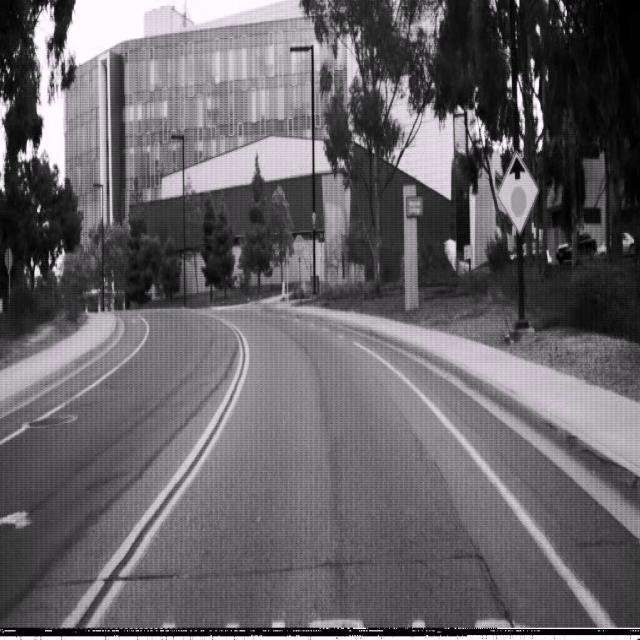stop: (293, 233, 305, 257)
